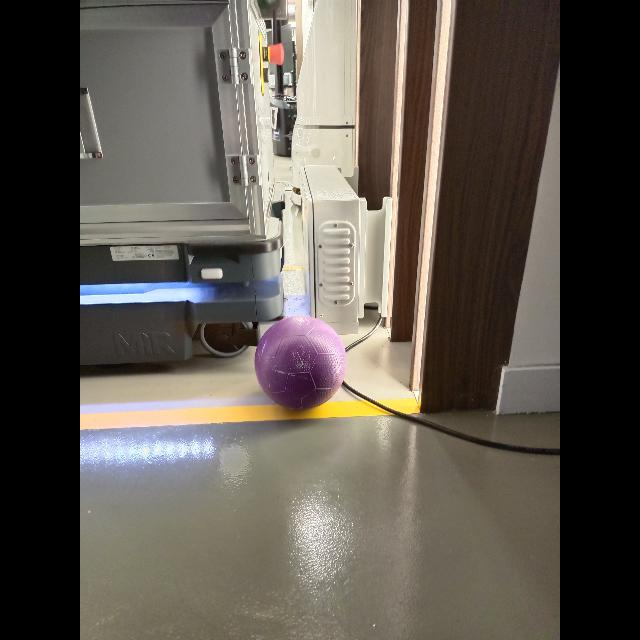P: (253, 320, 345, 408)
